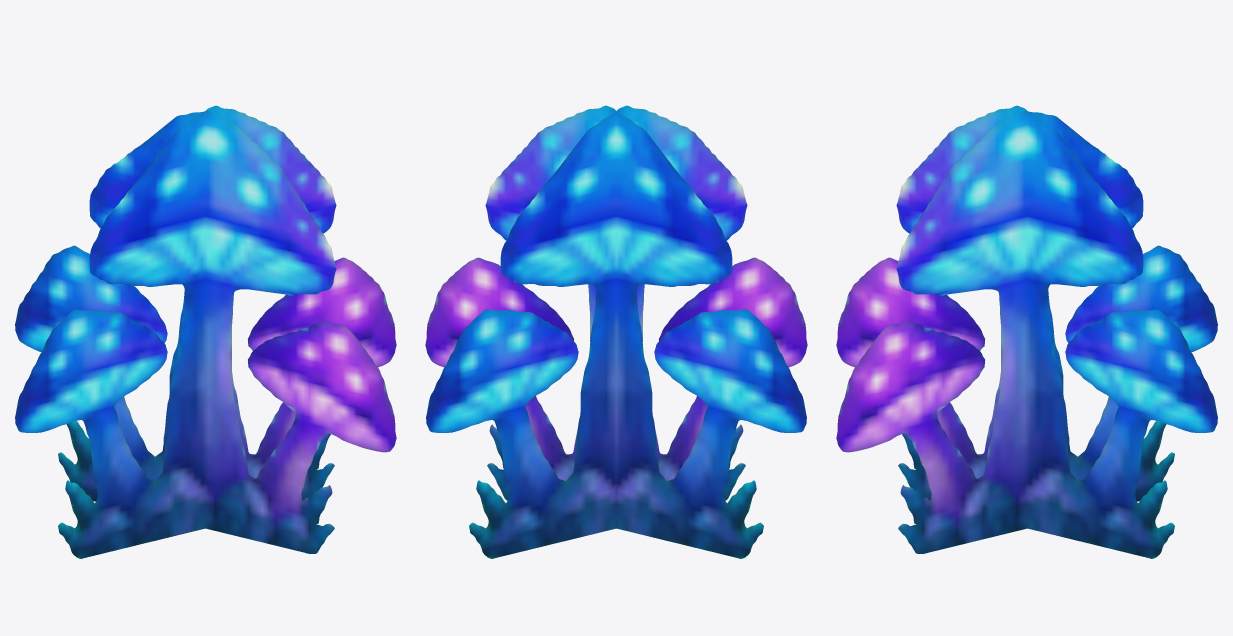
File: h_mycelium_fleur.glb
3 views of the same model, side by side, from view 1: azimuth 30°, elevation 25°; view 2: azimuth 150°, elevation 25°; view 3: azimuth 270°, elevation 25° (orthographic).
Visible parts, largest first — view 1: h_mycelium_fleur; view 2: h_mycelium_fleur; view 3: h_mycelium_fleur.
Part boxes in pixels (x1=…): h_mycelium_fleur: x1=15, y1=105, x2=396, y2=558; h_mycelium_fleur: x1=425, y1=105, x2=807, y2=558; h_mycelium_fleur: x1=836, y1=105, x2=1217, y2=558.
Bounding box in the file's own units: 0.304 × 0.32 × 0.2633.
1 material, 1 textured.
